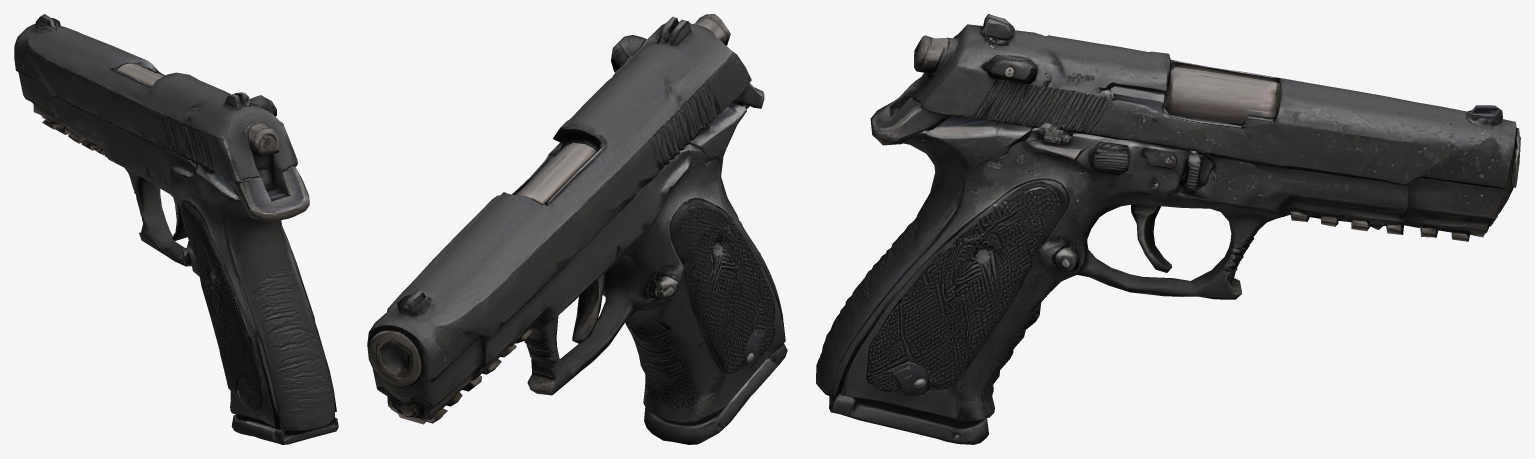
Rendered from pistol.glb.
The picture shows the model from 3 angles, left to right: view 1: azimuth 30°, elevation 25°; view 2: azimuth 150°, elevation 25°; view 3: azimuth 270°, elevation 25°; orthographic projection. The views are drawn at different scales.
Parts seen in each view (by area): view 1: tripo_node_cef6f3e1-7e8c-42fd-bec6-8dd01ef0aaa9; view 2: tripo_node_cef6f3e1-7e8c-42fd-bec6-8dd01ef0aaa9; view 3: tripo_node_cef6f3e1-7e8c-42fd-bec6-8dd01ef0aaa9.
Boxes of the visible parts, <box> form: tripo_node_cef6f3e1-7e8c-42fd-bec6-8dd01ef0aaa9: <box>14,14,338,444</box>; tripo_node_cef6f3e1-7e8c-42fd-bec6-8dd01ef0aaa9: <box>367,14,787,444</box>; tripo_node_cef6f3e1-7e8c-42fd-bec6-8dd01ef0aaa9: <box>816,14,1520,444</box>.
Size of the model in its own units: 0.0542 by 0.22 by 0.3405.
Materials: 1 (1 with a texture image).
